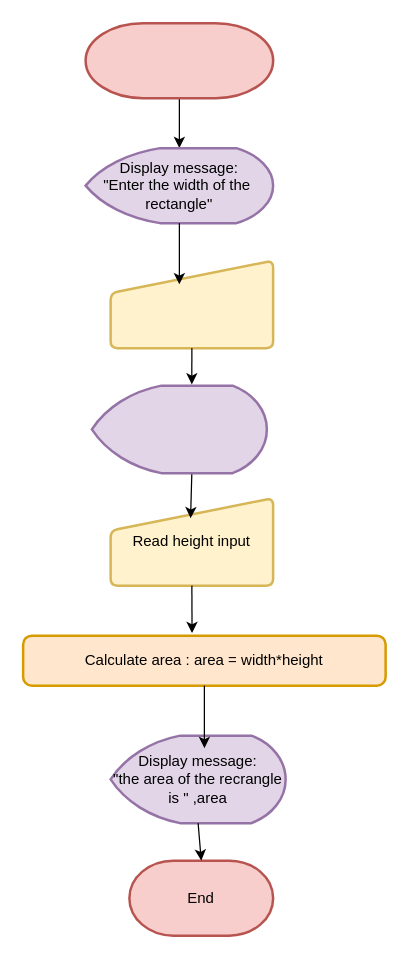
The diagram is 408 pixels wide and 958 high, and some of its shapes have lost their labels. The centre of each missing label's shape, as x and y in pixels:
Display message: "Enter the height of the rectangle": (x=179, y=429)
Read width input: (x=191, y=304)
start: (x=179, y=60)
